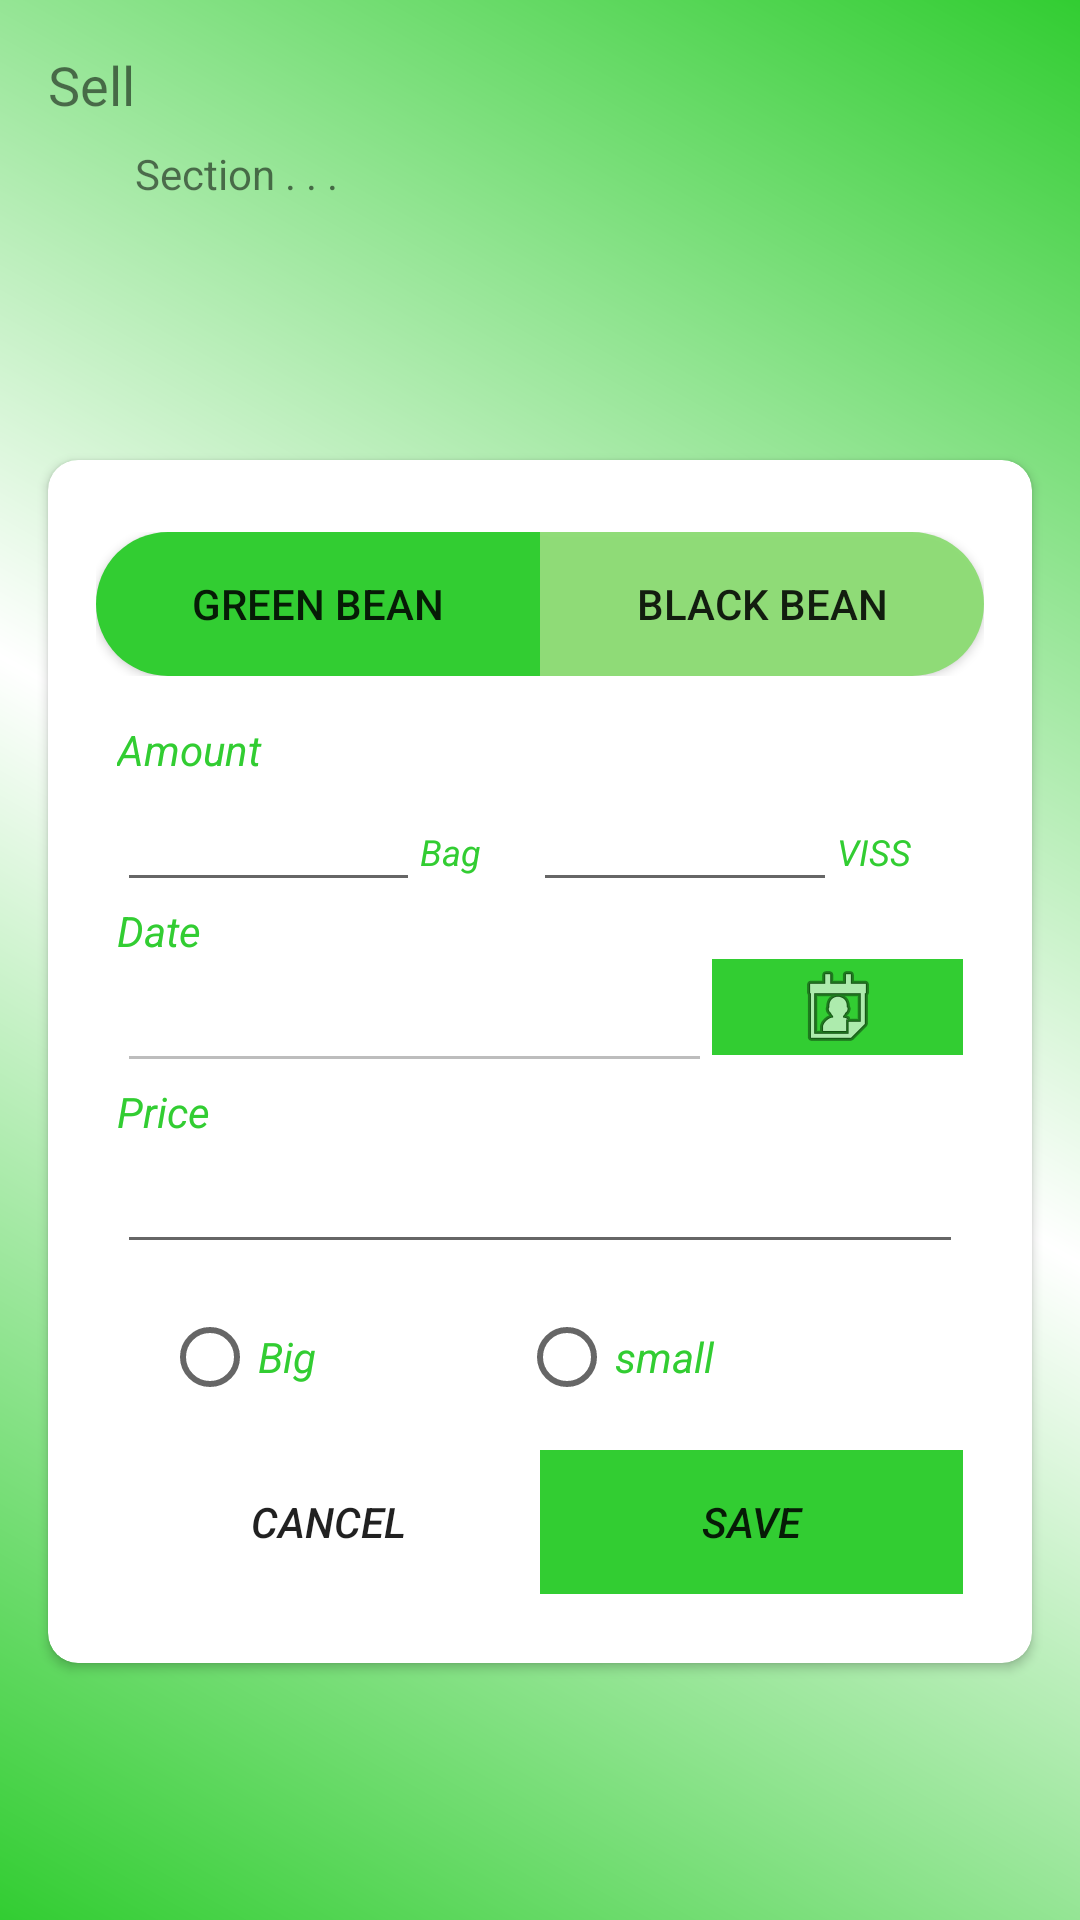

Point at icon controls on the screen. Image size 1080 x 1920, points as point (x, y).
calendar: point (837, 1007)
